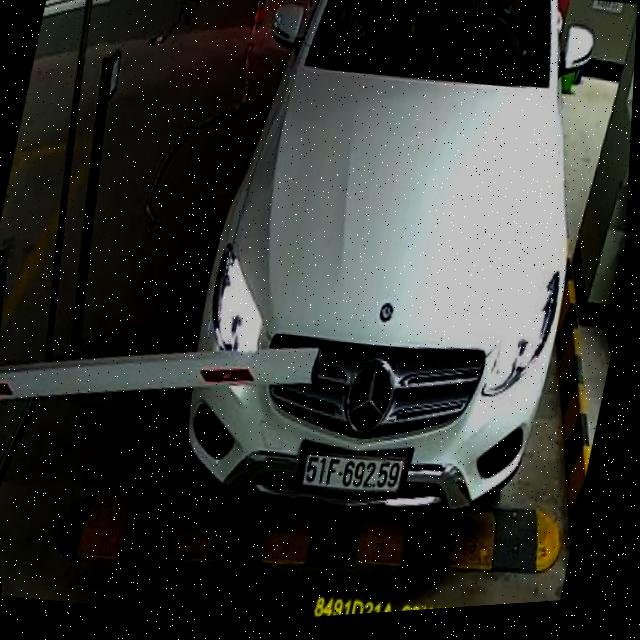car: (148, 0, 640, 560)
plate: (291, 438, 412, 510)
